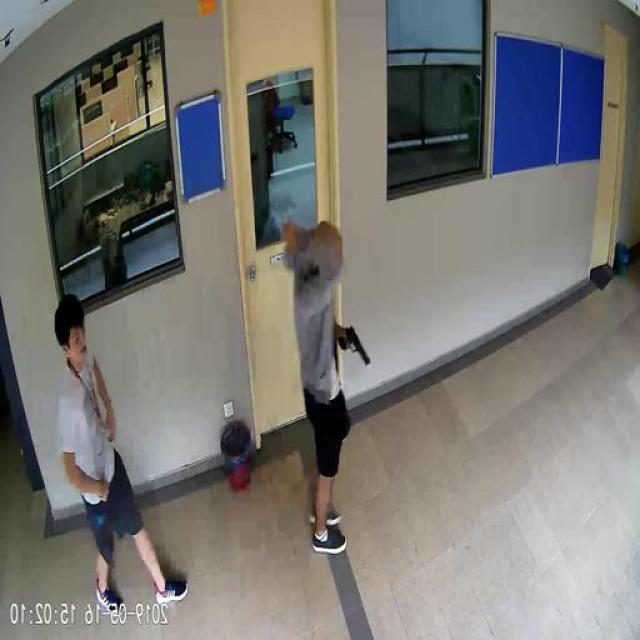Gun: (340, 322, 371, 366)
